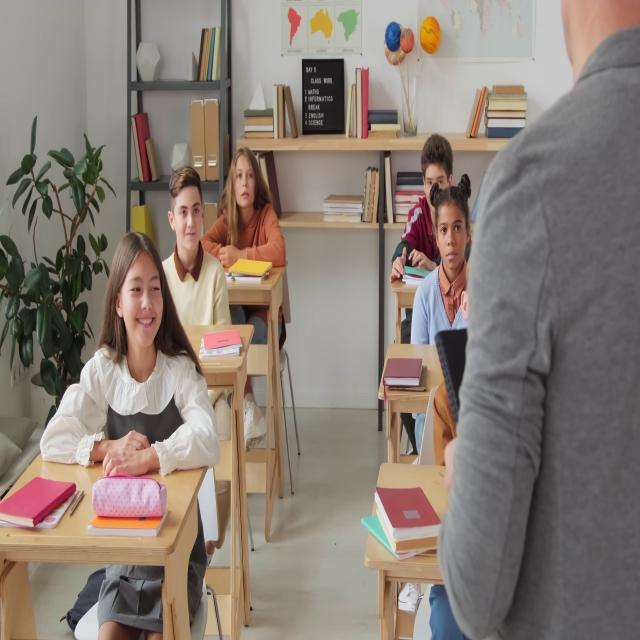listening: (42, 230, 225, 638), (205, 148, 288, 438), (407, 178, 471, 462), (161, 165, 233, 348), (389, 134, 473, 283)
